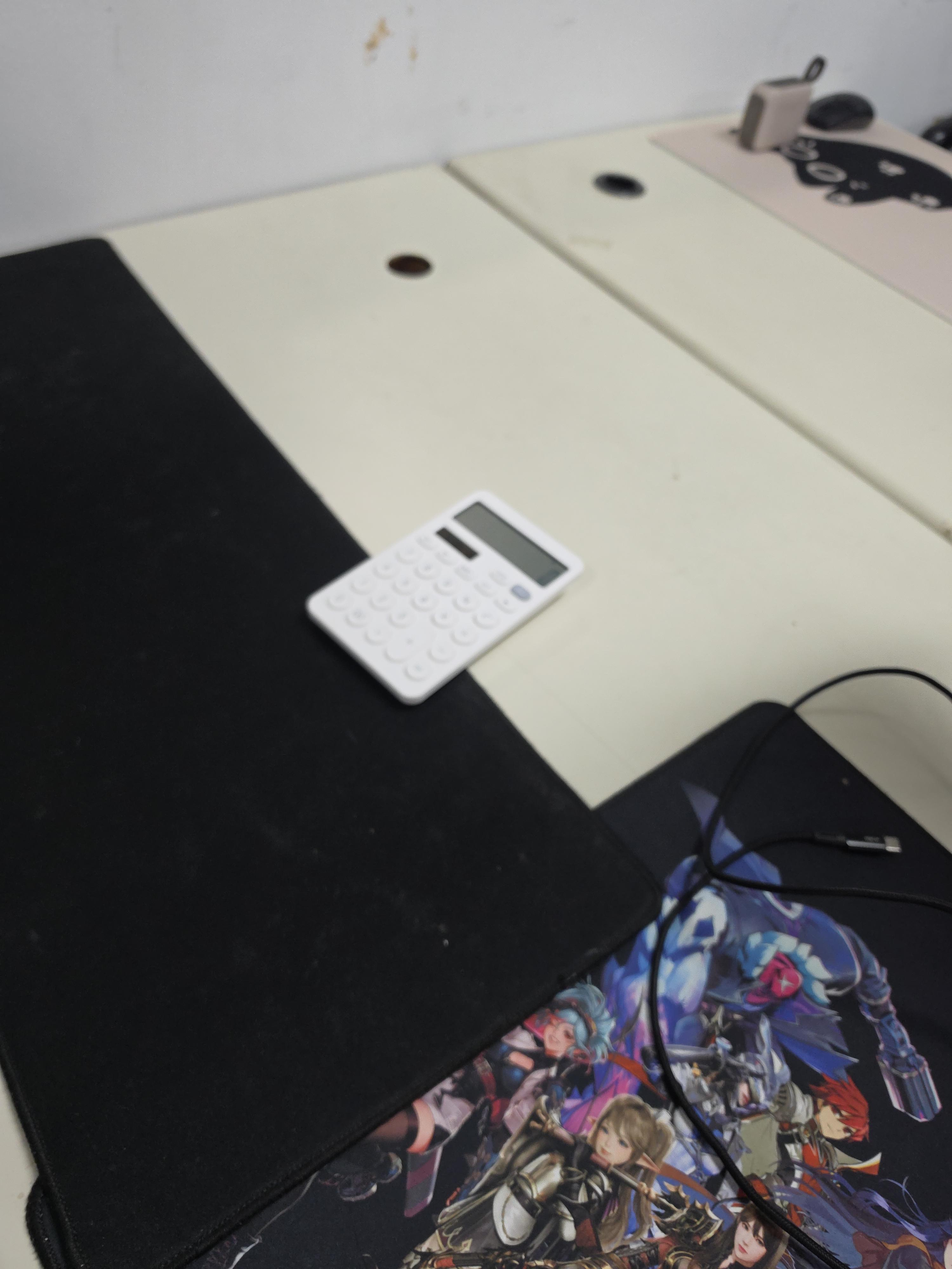calculator: (304, 490, 585, 707)
